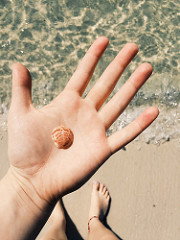palm: (18, 105, 115, 191)
